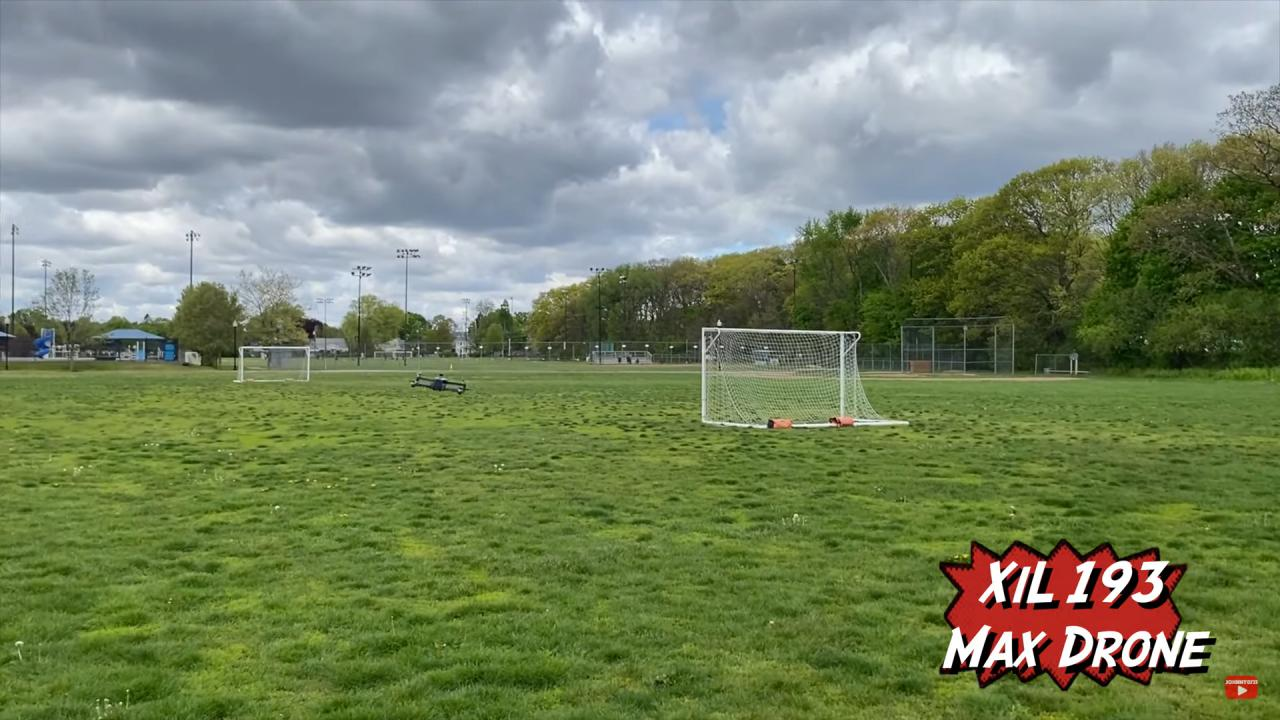Drone: (404, 367, 476, 400)
